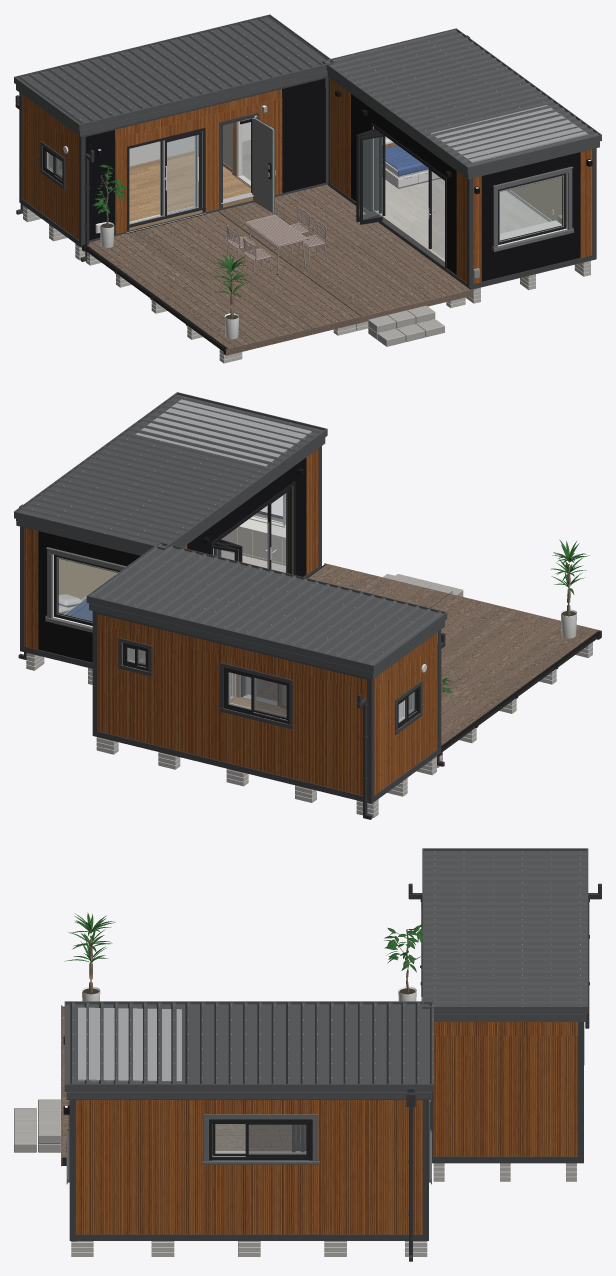
The model's file is twin-10-L.glb.
3 renders of one model, top to bottom at view 1: azimuth 30°, elevation 25°; view 2: azimuth 150°, elevation 25°; view 3: azimuth 270°, elevation 25°, orthographic. The views are drawn at different scales.
Visible parts, largest first — view 1: 지붕_TD_RoofSheetSilver, TD_DeckEmboss, TD_BlackSiding, TD_WoodSiding, TD_GlassFix, TD_TrimGray, TD_FloorGray, TD_A_FloorWood, 지붕_TD_RoofCorrugated, TD_FrameBlack, TD_FurnTaupe, TD_SplitBlock (+18 smaller); view 2: 지붕_TD_RoofSheetSilver, TD_WoodSiding, TD_DeckEmboss, TD_TrimGray, TD_BlackSiding, TD_GlassFix, 지붕_TD_RoofCorrugated, 지붕_TD_WoodSiding, TD_SplitBlock, TD_FrameBlack, TD_WinFrame, TD_IntPanelBeige (+10 smaller); view 3: 지붕_TD_RoofSheetSilver, TD_WoodSiding, TD_TrimGray, 지붕_TD_RoofCorrugated, TD_DeckEmboss, TD_GlassFix, TD_SplitBlock, TD_StepBlock, TD_WinSurround, TD_FrameBlack, 지붕_TD_WoodSiding, TD_Screen (+2 smaller).
Boxes of the visible parts, x1,y1,x2,y2 form: 지붕_TD_RoofSheetSilver: (14,14,601,179); TD_DeckEmboss: (85,184,473,355); TD_BlackSiding: (85,88,580,281); TD_WoodSiding: (22,78,592,283); TD_GlassFix: (46,135,561,258); TD_TrimGray: (19,77,596,289); TD_FloorGray: (373,177,548,266); TD_A_FloorWood: (129,154,252,230); 지붕_TD_RoofCorrugated: (431,105,587,162); TD_FrameBlack: (356,123,566,268); TD_FurnTaupe: (226,207,327,278); TD_SplitBlock: (23,205,590,363); 지붕_TD_RoofSheetSilver: (14,392,447,679); TD_WoodSiding: (24,448,437,795); TD_DeckEmboss: (256,563,601,745); TD_TrimGray: (20,446,441,803); TD_BlackSiding: (38,457,306,662); TD_GlassFix: (58,493,414,722); 지붕_TD_RoofCorrugated: (135,399,311,466); 지붕_TD_WoodSiding: (97,614,437,690); TD_SplitBlock: (26,642,592,817); TD_FrameBlack: (54,481,295,625); TD_WinFrame: (122,643,419,728); TD_IntPanelBeige: (58,485,293,599); 지붕_TD_RoofSheetSilver: (64,848,588,1099); TD_WoodSiding: (75,1036,577,1234); TD_TrimGray: (69,1022,584,1240); 지붕_TD_RoofCorrugated: (78,1007,181,1081); TD_DeckEmboss: (61,1005,300,1166); TD_GlassFix: (215,1124,305,1154); TD_SplitBlock: (71,1163,576,1256); TD_StepBlock: (14,1099,60,1152); TD_WinSurround: (66,1102,431,1184); TD_FrameBlack: (209,1119,312,1160); 지붕_TD_WoodSiding: (434,1022,577,1035); TD_Screen: (249,1125,305,1153).
Bounding box in the file's own units: 9.86 × 3.42 × 10.22.
101 materials, 14 textured.
